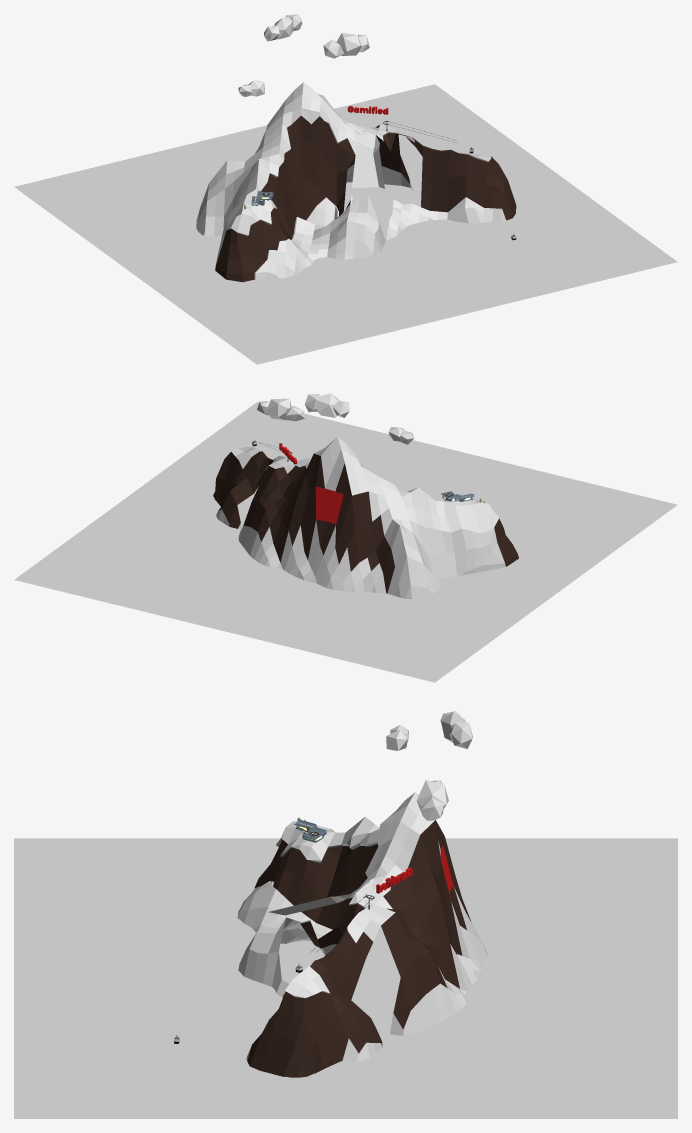
3 renders of one model, top to bottom at view 1: azimuth 30°, elevation 25°; view 2: azimuth 150°, elevation 25°; view 3: azimuth 270°, elevation 25°, orthographic. The views are drawn at different scales.
Visible parts, largest first — view 1: Plane, Mountain, clouds 1, clouds 2; view 2: Plane, Mountain, clouds 2, clouds 1; view 3: Plane, Mountain, clouds 1, clouds 2.
Boxes of the visible parts, x1,y1,x2,y2 form: Plane: (14, 84, 677, 364); Mountain: (196, 82, 516, 282); clouds 1: (323, 33, 369, 58); clouds 2: (264, 14, 302, 41); Plane: (14, 402, 677, 682); Mountain: (213, 437, 518, 598); clouds 2: (305, 393, 349, 417); clouds 1: (257, 398, 304, 421); Plane: (14, 838, 677, 1118); Mountain: (237, 792, 487, 1077); clouds 1: (416, 780, 448, 820); clouds 2: (440, 711, 472, 749).
Bounding box in the file's own units: 131 × 55.36 × 131.
25 materials, 2 textured.
